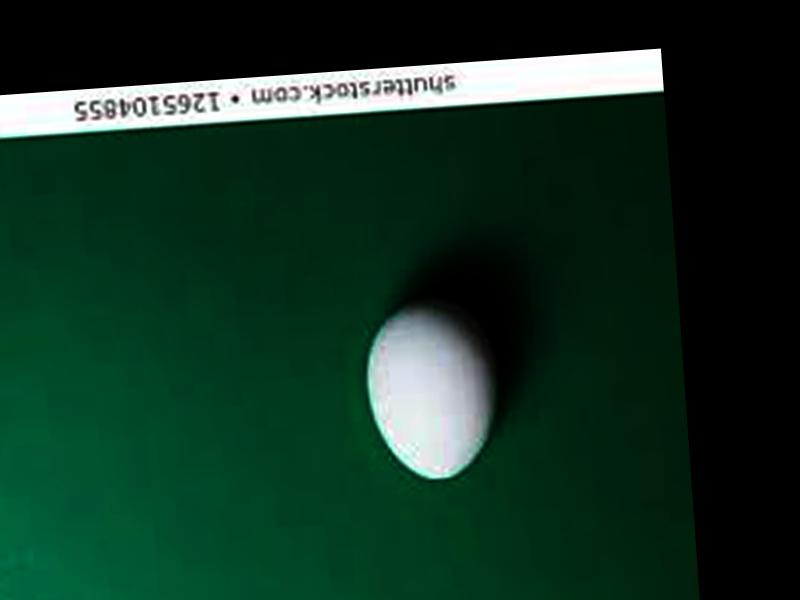Eggs: (355, 294, 499, 483)
